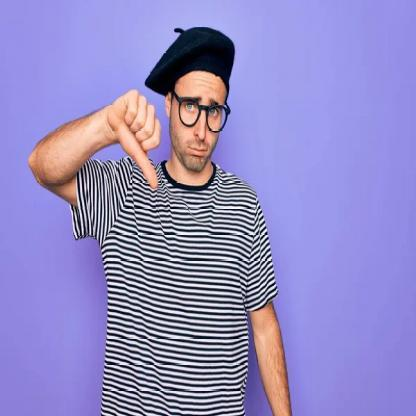thumb_down: (113, 82, 163, 190)
